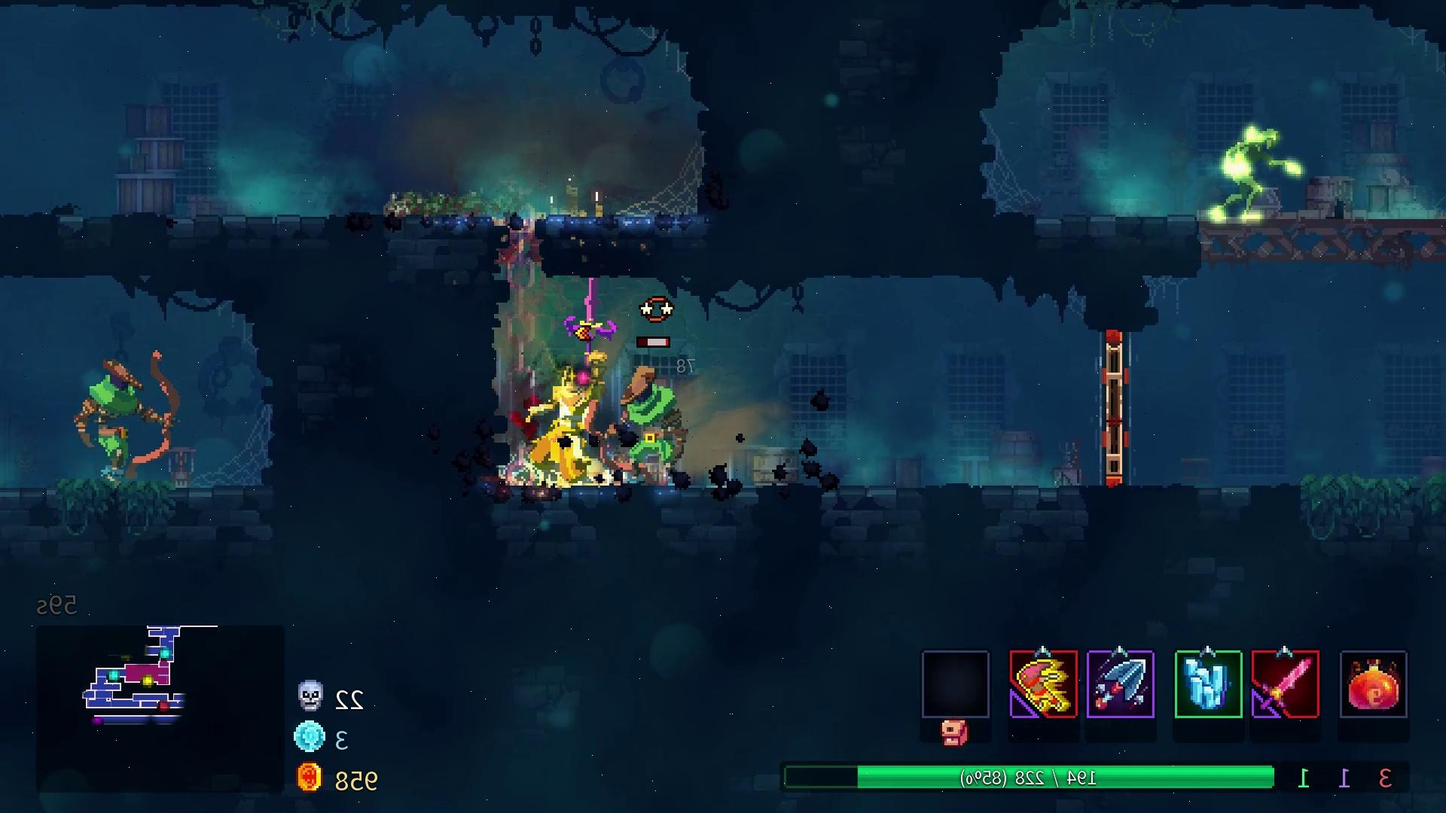gamer: (512, 350, 623, 490)
green1: (1197, 126, 1306, 219)
